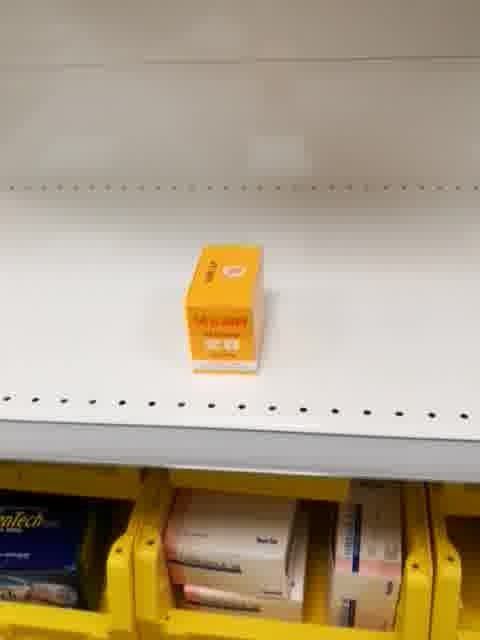jasminetea: (183, 238, 269, 375)
